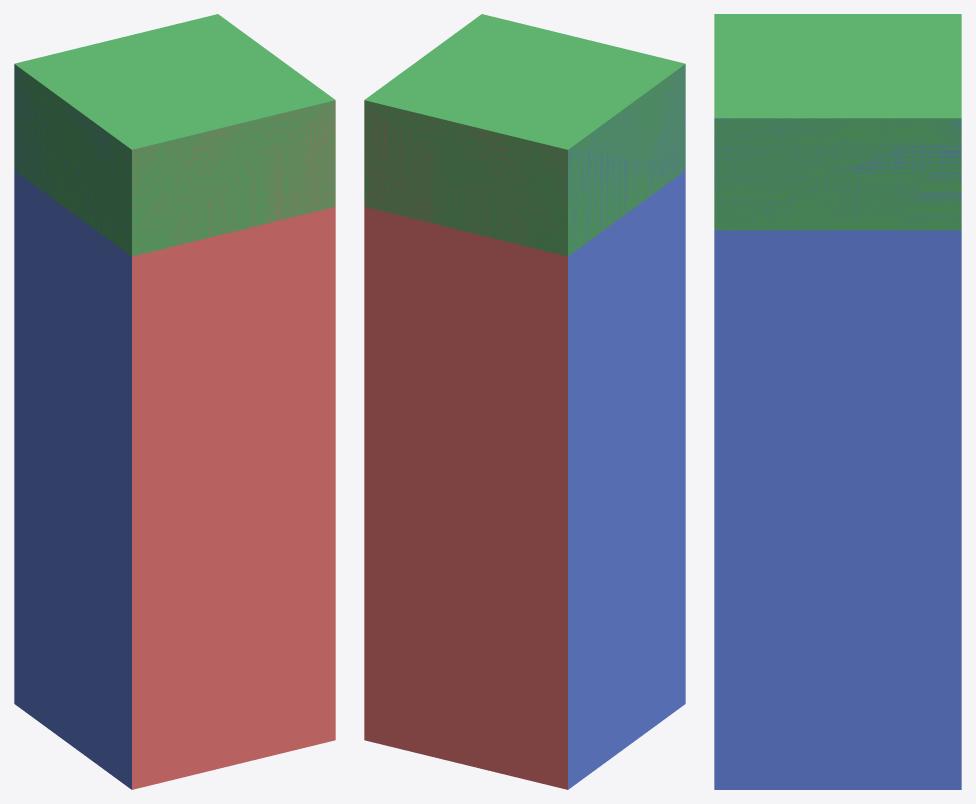
Rendered from meas_above_origin.pipe_length_2_0.dae.
The picture shows the model from 3 angles, left to right: view 1: azimuth 30°, elevation 25°; view 2: azimuth 150°, elevation 25°; view 3: azimuth 270°, elevation 25°; orthographic projection. The views are drawn at different scales.
Visible parts, largest first — view 1: ZXO (×2), ZXX (×2), Y (×3); view 2: ZXO (×2), ZXX (×2), Y (×3); view 3: ZXO, ZXX, Y (×2).
Part boxes in pixels (x1,y1,x2,y2): ZXO (×2): (14, 65, 335, 576); ZXX (×2): (14, 491, 335, 789); Y (×3): (14, 14, 335, 256); ZXO (×2): (364, 64, 685, 576); ZXX (×2): (364, 491, 685, 789); Y (×3): (364, 14, 685, 256); ZXO: (714, 118, 961, 565); ZXX: (714, 566, 961, 789); Y (×2): (714, 14, 961, 230).
Bounding box in the file's own units: 1 × 1 × 3.
